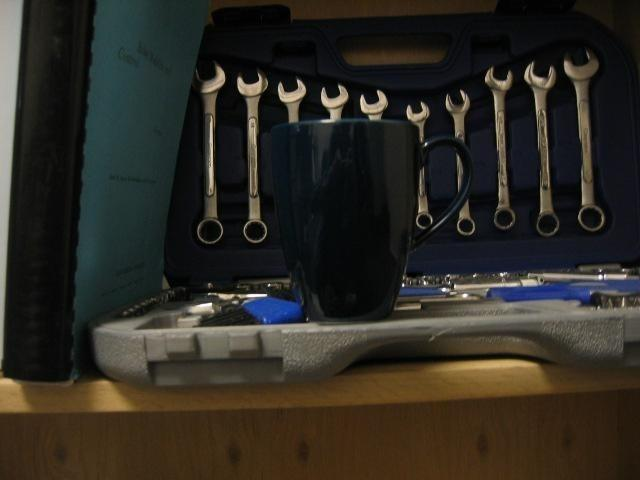cup-handle: (257, 122, 472, 322)
